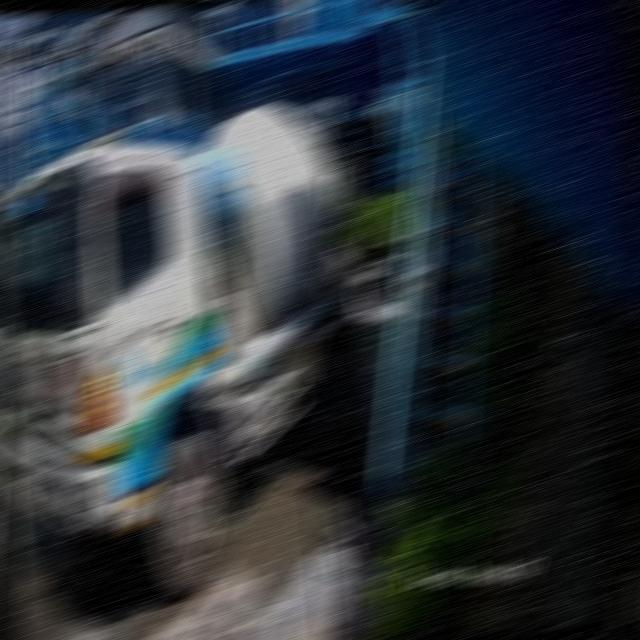cement_mixer_truck: (0, 106, 371, 592)
